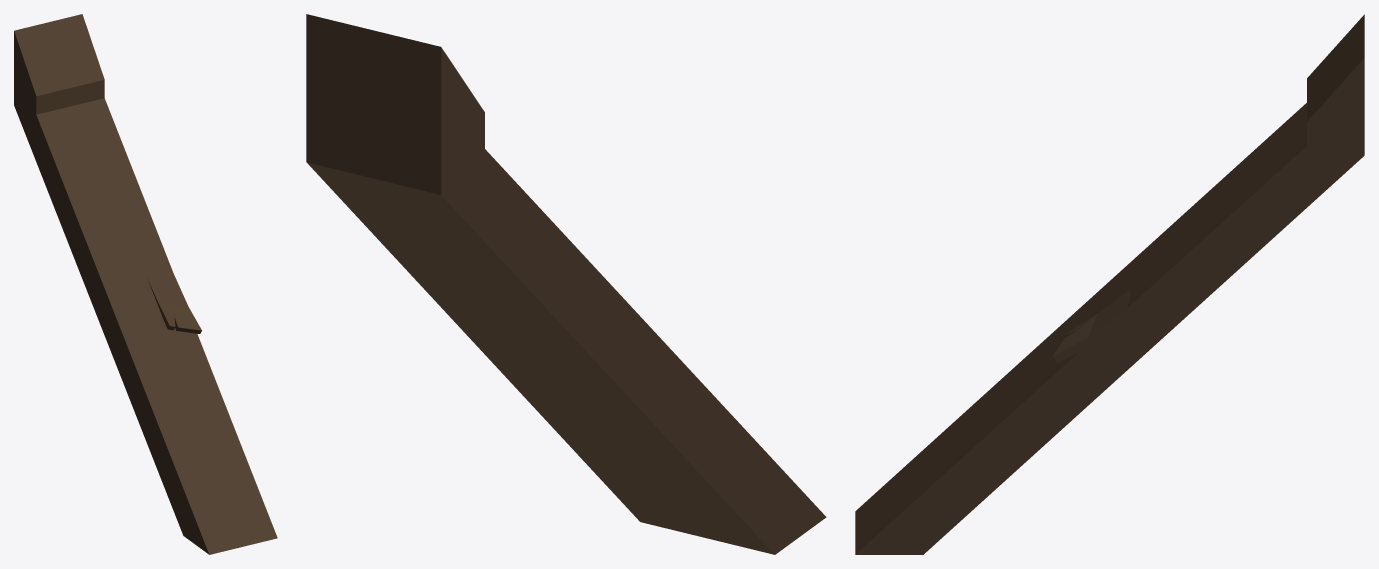
File: buildings-roof-wood-top-3m-edge.glb
3 views of the same model, side by side, from view 1: azimuth 30°, elevation 25°; view 2: azimuth 150°, elevation 25°; view 3: azimuth 270°, elevation 25° (orthographic). The views are drawn at different scales.
Visible parts, largest first — view 1: roof-wood-top-3m-edge; view 2: roof-wood-top-3m-edge; view 3: roof-wood-top-3m-edge.
Boxes of the visible parts, x1=… form: roof-wood-top-3m-edge: x1=14, y1=14, x2=277, y2=554; roof-wood-top-3m-edge: x1=306, y1=14, x2=826, y2=554; roof-wood-top-3m-edge: x1=855, y1=14, x2=1364, y2=554.
Bounding box in the file's own units: 0.7 × 3.73 × 3.47.
